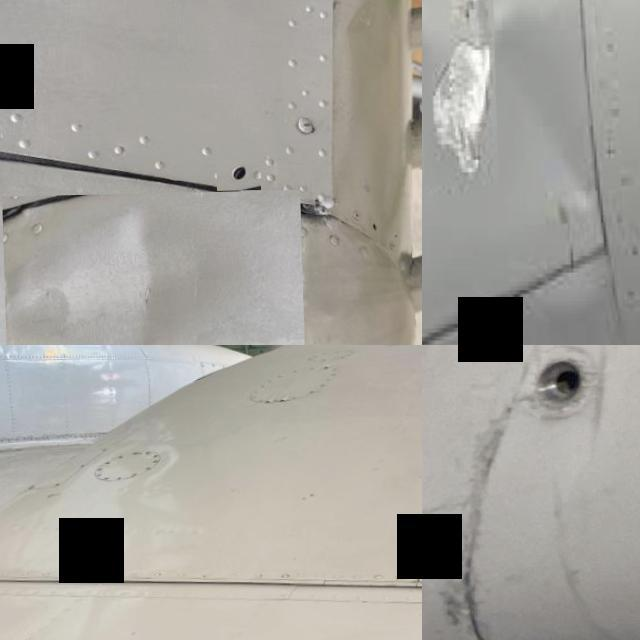Dent: (0, 192, 302, 345), (422, 0, 493, 187)
Missing_Fastener: (518, 362, 592, 412), (214, 146, 260, 192)
